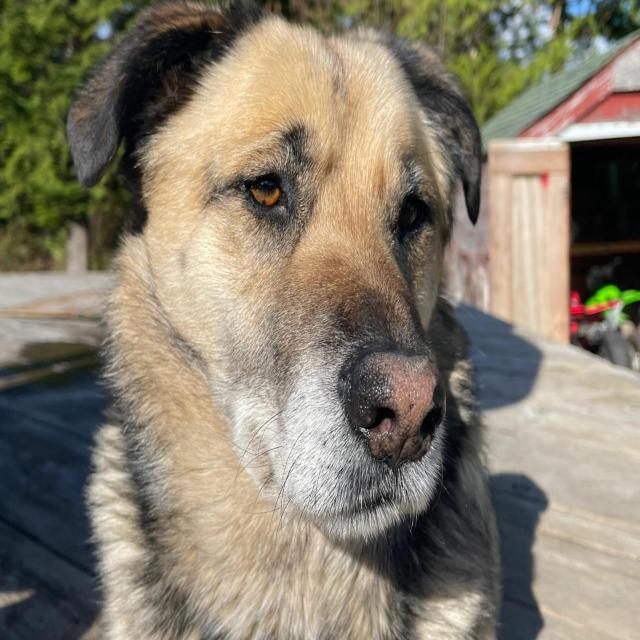dog: (44, 0, 524, 640)
